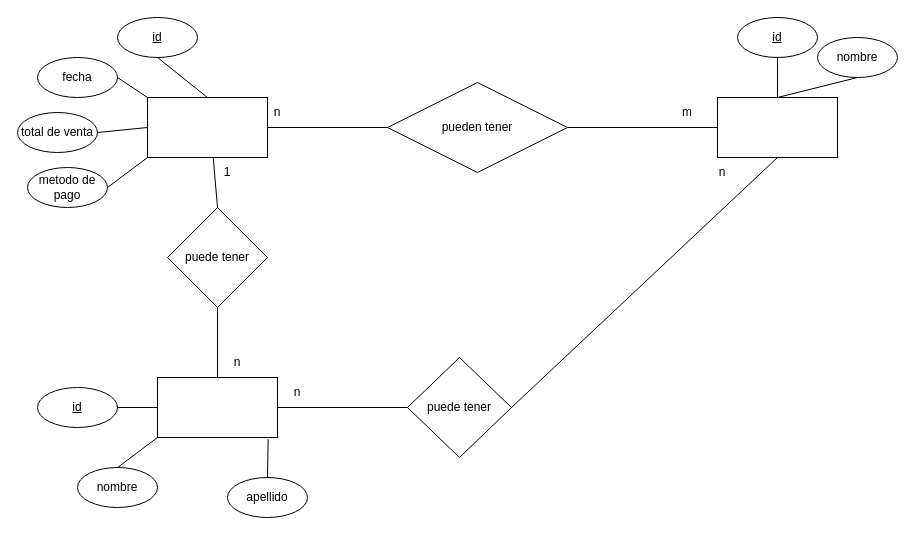
This 915x535 diagram has some shape labels left out. The centre of each missing label's shape, as x and y in pixels:
Clientes: the point at 217,407
Productos: the point at 777,127
Ventas: the point at 207,127
